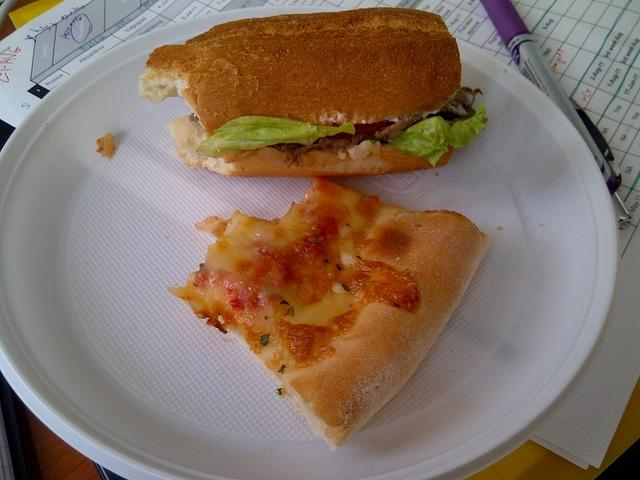lettuce: (196, 115, 356, 156), (388, 104, 489, 168)
